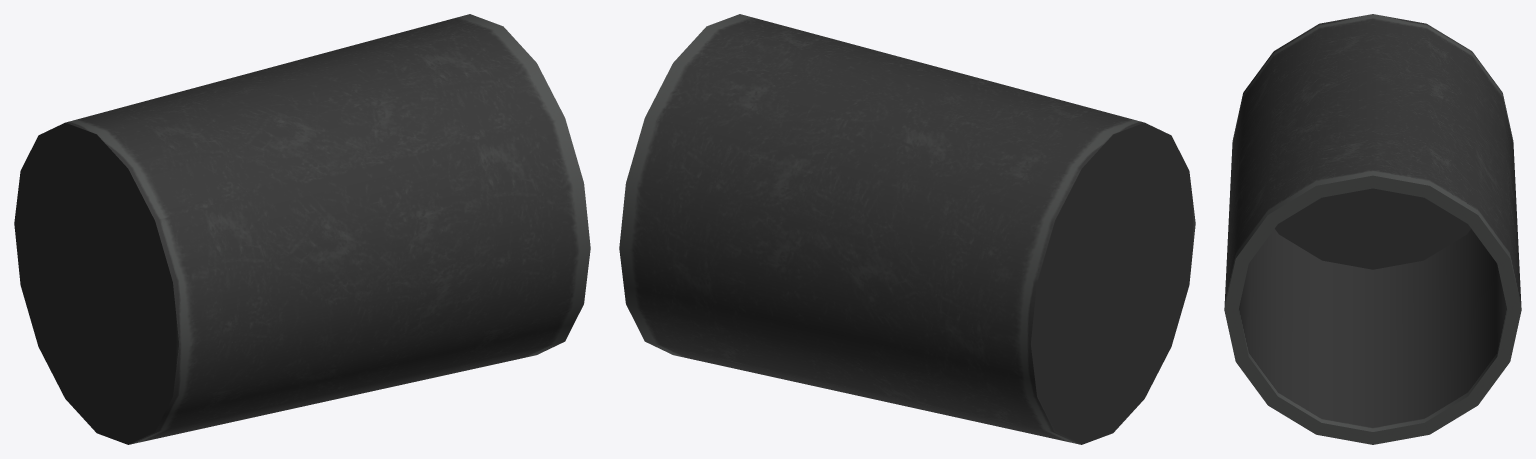
Rendered from VacuumNozzle.dae.
3 views of the same model, side by side, from view 1: azimuth 30°, elevation 25°; view 2: azimuth 150°, elevation 25°; view 3: azimuth 270°, elevation 25° (orthographic). The views are drawn at different scales.
Visible parts, largest first — view 1: Vacuum; view 2: Vacuum; view 3: Vacuum.
Part boxes in pixels (left/top/right/bottom): Vacuum: left=14, top=14, right=590, bottom=444; Vacuum: left=619, top=14, right=1195, bottom=444; Vacuum: left=1224, top=14, right=1521, bottom=444.
Size of the model in its own units: 0.1528 by 0.1136 by 0.1136.
Materials: 1 (1 with a texture image).
